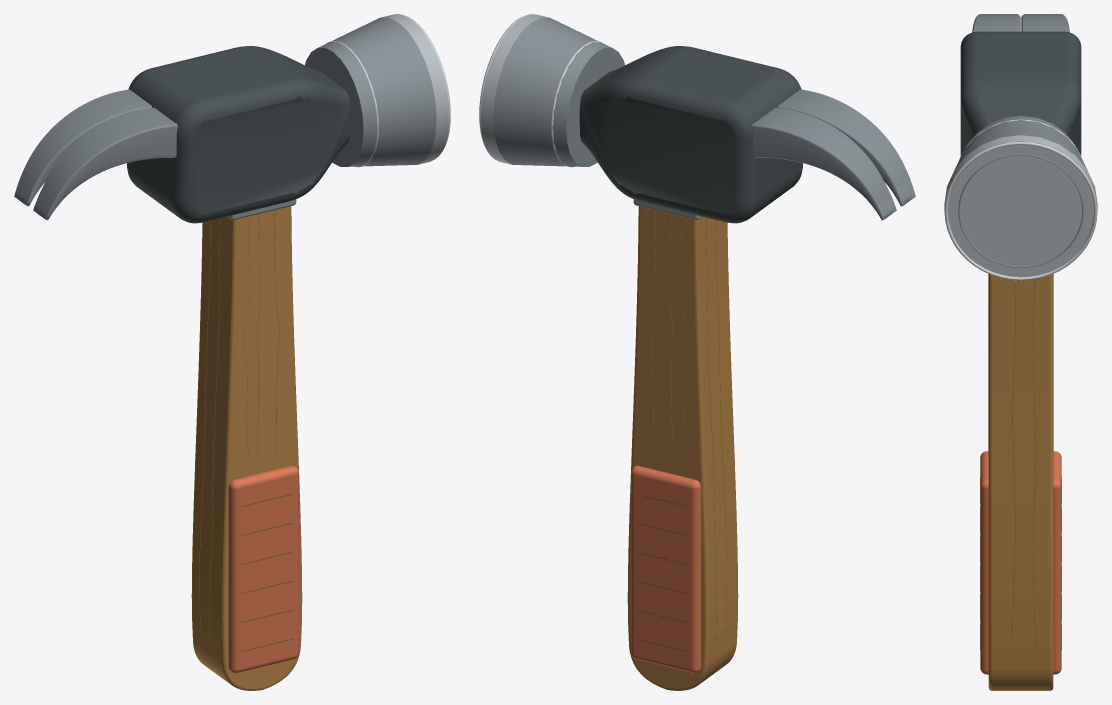
File: workshop-hammer.glb
3 renders of one model, left to right at view 1: azimuth 30°, elevation 25°; view 2: azimuth 150°, elevation 25°; view 3: azimuth 270°, elevation 25°, orthographic.
Visible parts, largest first — view 1: Wood_Handle, steelInset, Grip_Front, steel, Claw_Back, Claw_Front, steelEdge; view 2: Wood_Handle, steelInset, Grip_Back, steel, Claw_Front, Claw_Back, steelEdge; view 3: Wood_Handle, steelEdge, steelInset, steel, Grip_Front, Grip_Back, Polished_Striking_Rim, Claw_Front, Claw_Back, Machined_Face_Groove, Side_Wood_Right_5, Side_Wood_Right_2.
Part boxes in pixels (x1,y1,x2,y2): Wood_Handle: (191,206,302,690); steelInset: (127,46,350,223); Grip_Front: (228,465,298,673); steel: (305,17,436,166); Claw_Back: (33,107,177,220); Claw_Front: (14,89,151,206); steelEdge: (381,14,449,164); Wood_Handle: (627,206,738,690); steelInset: (579,46,802,223); Grip_Back: (631,465,701,673); steel: (493,17,624,166); Claw_Front: (752,107,896,220); Claw_Back: (778,89,915,206); steelEdge: (480,14,548,164); Wood_Handle: (988,274,1053,690); steelEdge: (944,135,1097,277); steelInset: (960,31,1081,155); steel: (955,116,1086,168); Grip_Front: (980,451,988,674); Grip_Back: (1053,451,1061,674); Polished_Striking_Rim: (944,142,1097,280); Claw_Front: (1021,14,1069,32); Claw_Back: (972,14,1020,32); Machined_Face_Groove: (958,154,1083,267); Side_Wood_Right_5: (1012,280,1015,651); Side_Wood_Right_2: (1033,279,1035,651).
Bounding box in the file's own units: 0.2629 × 0.4061 × 0.0902.
